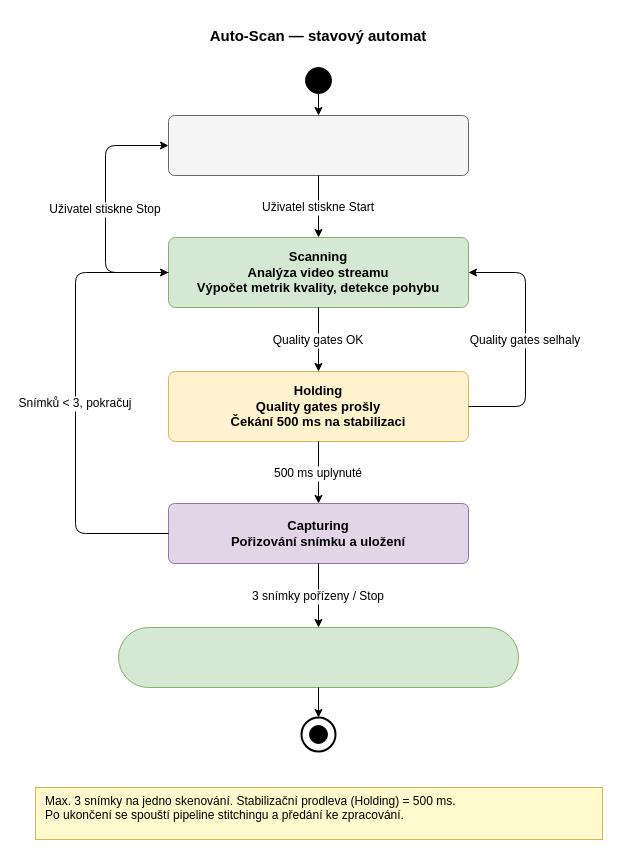
The diagram is 620 pixels wide and 857 high, and some of its shapes have lost their labels. The shapes that lost their labels are listed below. From the top down, each one's centre as x and y in pixels, then its label:
(318,145): Idle Výchozí stav — tlačítko Start
(318,657): Stitching → výsledný obraz Předání pipeline ke zpracování (OCR)
